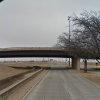Bridge: (4, 38, 91, 75)
